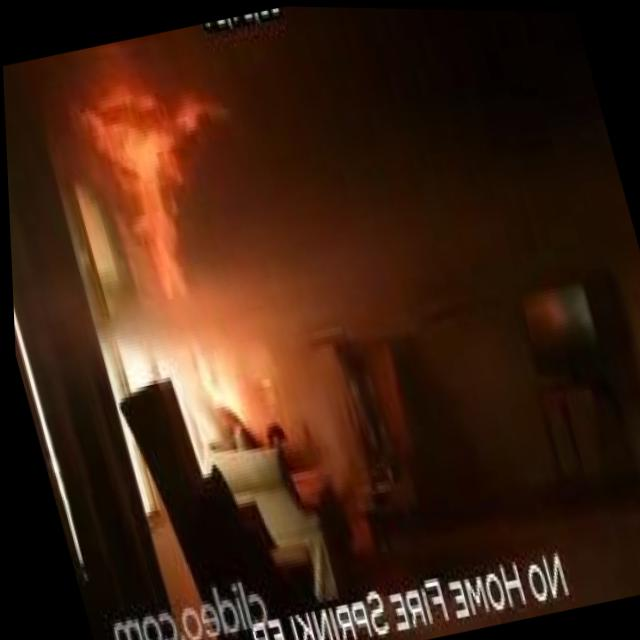fire: (76, 76, 258, 315), (183, 333, 248, 438)
